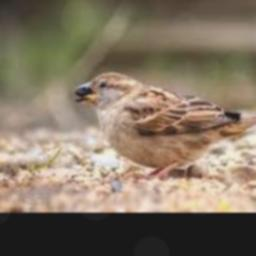Sparrow: (75, 71, 256, 180)
